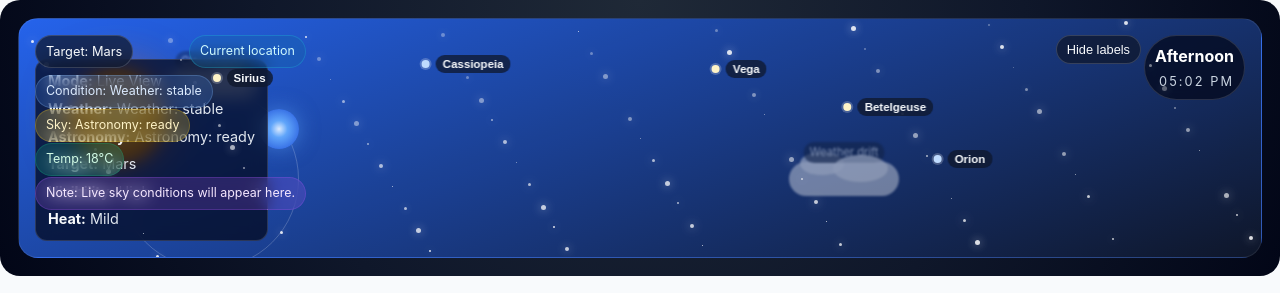
App › shows a tooltip overlay for star labels on hover
Hover over the button "Sirius": (242, 78) left=212, top=69, right=272, bottom=87
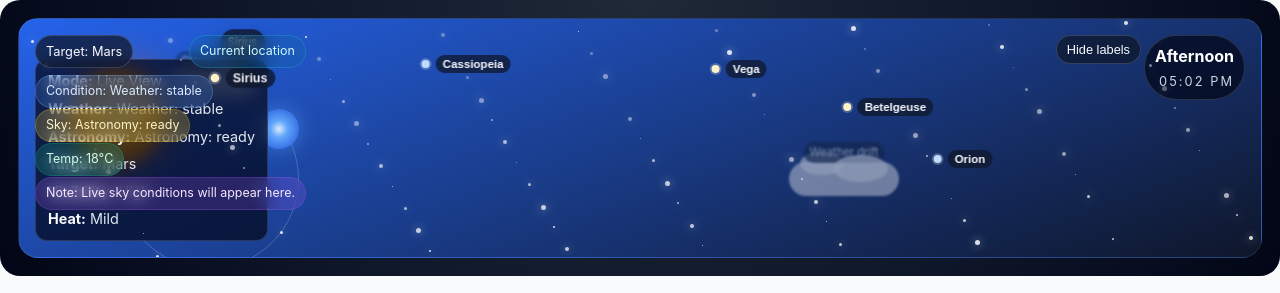
Check: the tooltip reads "Sirius", box left=228, top=35, right=257, bottom=49
